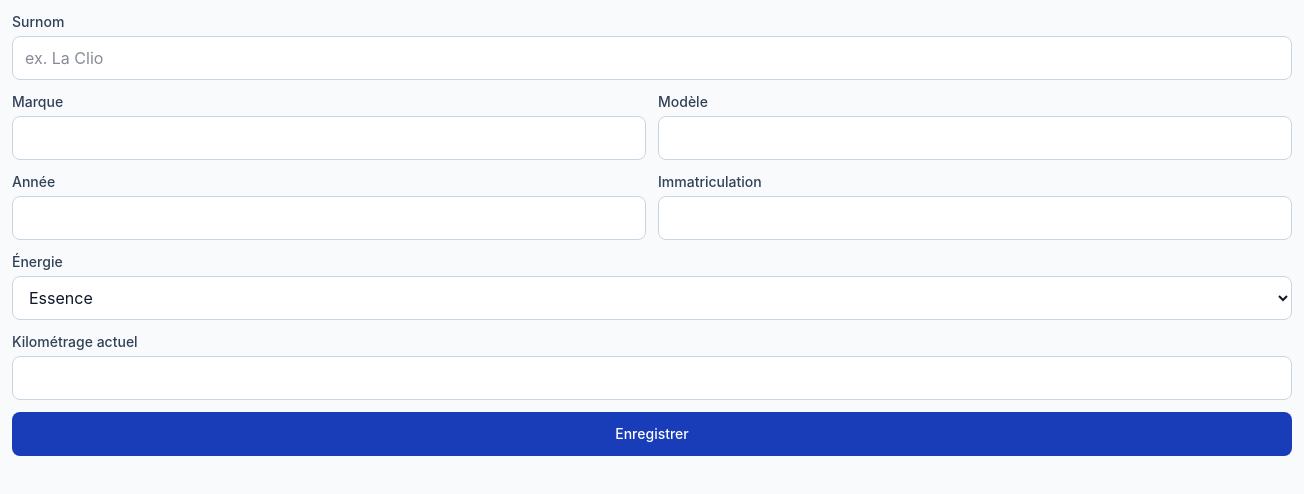
Test: requires a nickname
This screenshot has width=1304, height=494.
Click the button "Enregistrer" at {"x": 652, "y": 434}, box [12, 412, 1292, 456]
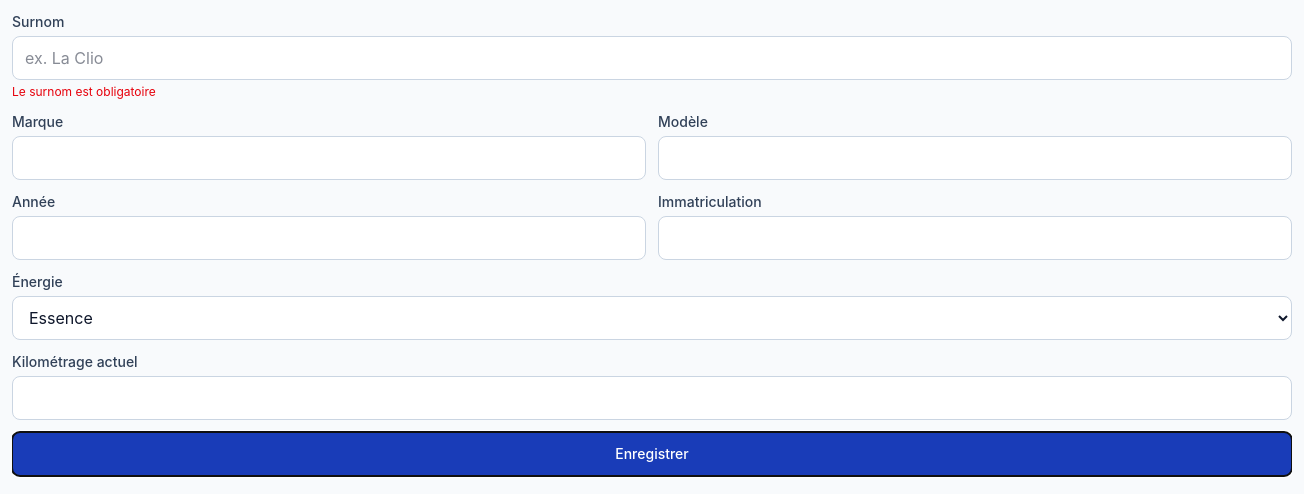
Now the text "Le surnom est obligatoire" is shown, box [12, 84, 156, 99]
